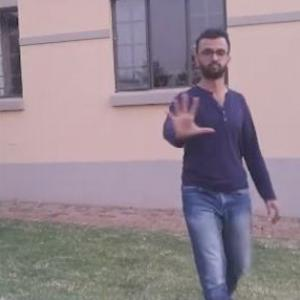follow_hand: (156, 86, 218, 140)
